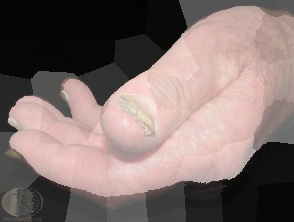Nail_psoriasis: (110, 81, 170, 146), (0, 145, 32, 166), (57, 84, 75, 109), (5, 115, 26, 132)
